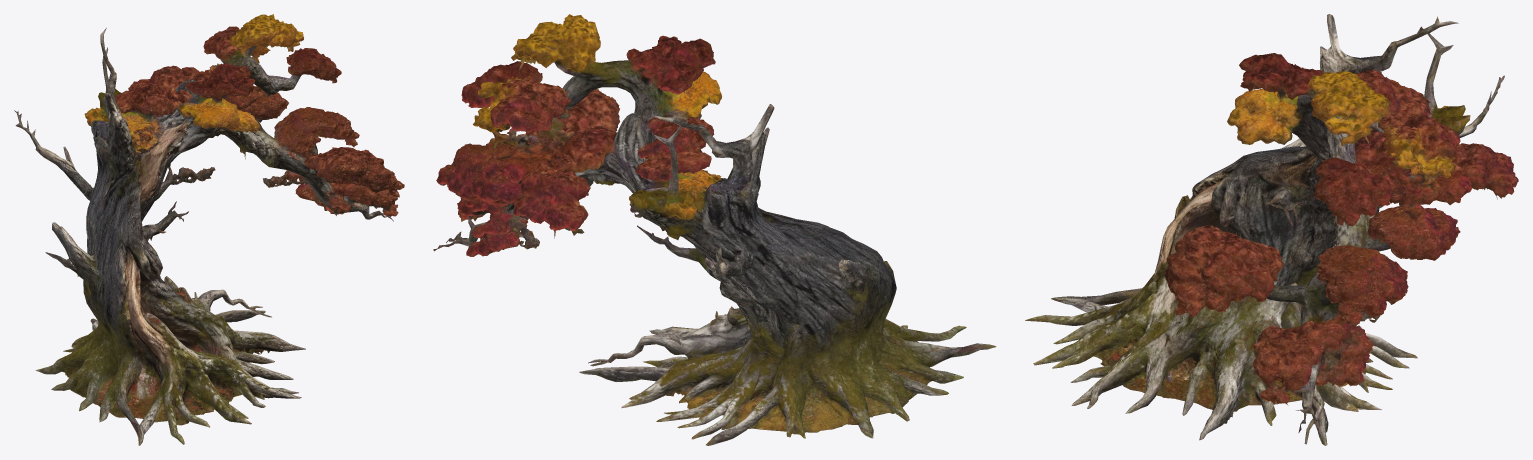
File: hero-tree-b.glb
3 renders of one model, left to right at view 1: azimuth 30°, elevation 25°; view 2: azimuth 150°, elevation 25°; view 3: azimuth 270°, elevation 25°, orthographic. The views are drawn at different scales.
Visible parts, largest first — view 1: Mesh_0; view 2: Mesh_0; view 3: Mesh_0.
Part boxes in pixels (bbox=[...]): Mesh_0: bbox=[14, 14, 404, 445]; Mesh_0: bbox=[433, 14, 996, 445]; Mesh_0: bbox=[1025, 14, 1518, 445].
Size of the model in its own units: 1.89 by 1.42 by 1.71.
Materials: 1 (1 with a texture image).
